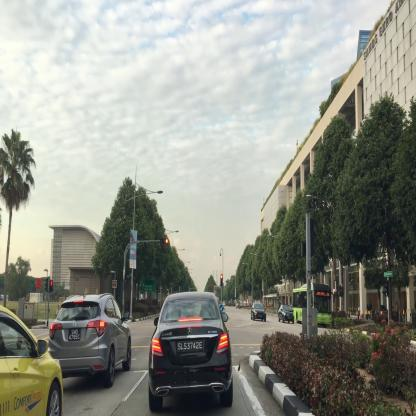red_traffic_light: (160, 238, 168, 242), (221, 274, 222, 285)
